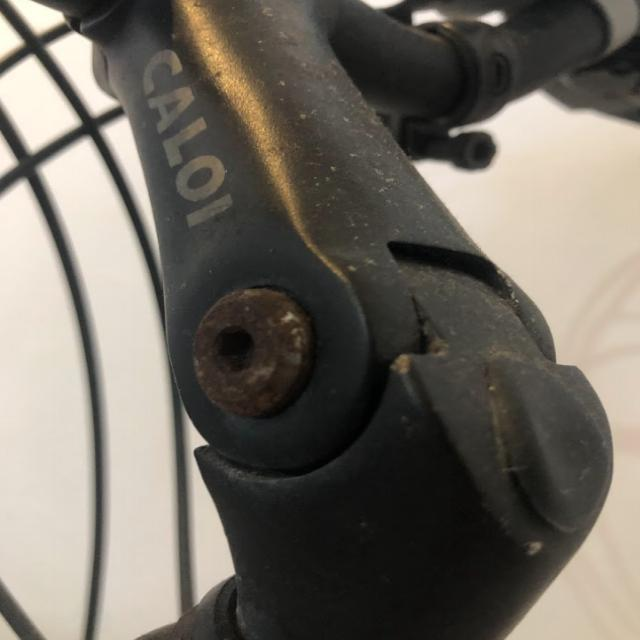Corrosion: (184, 283, 315, 420)
